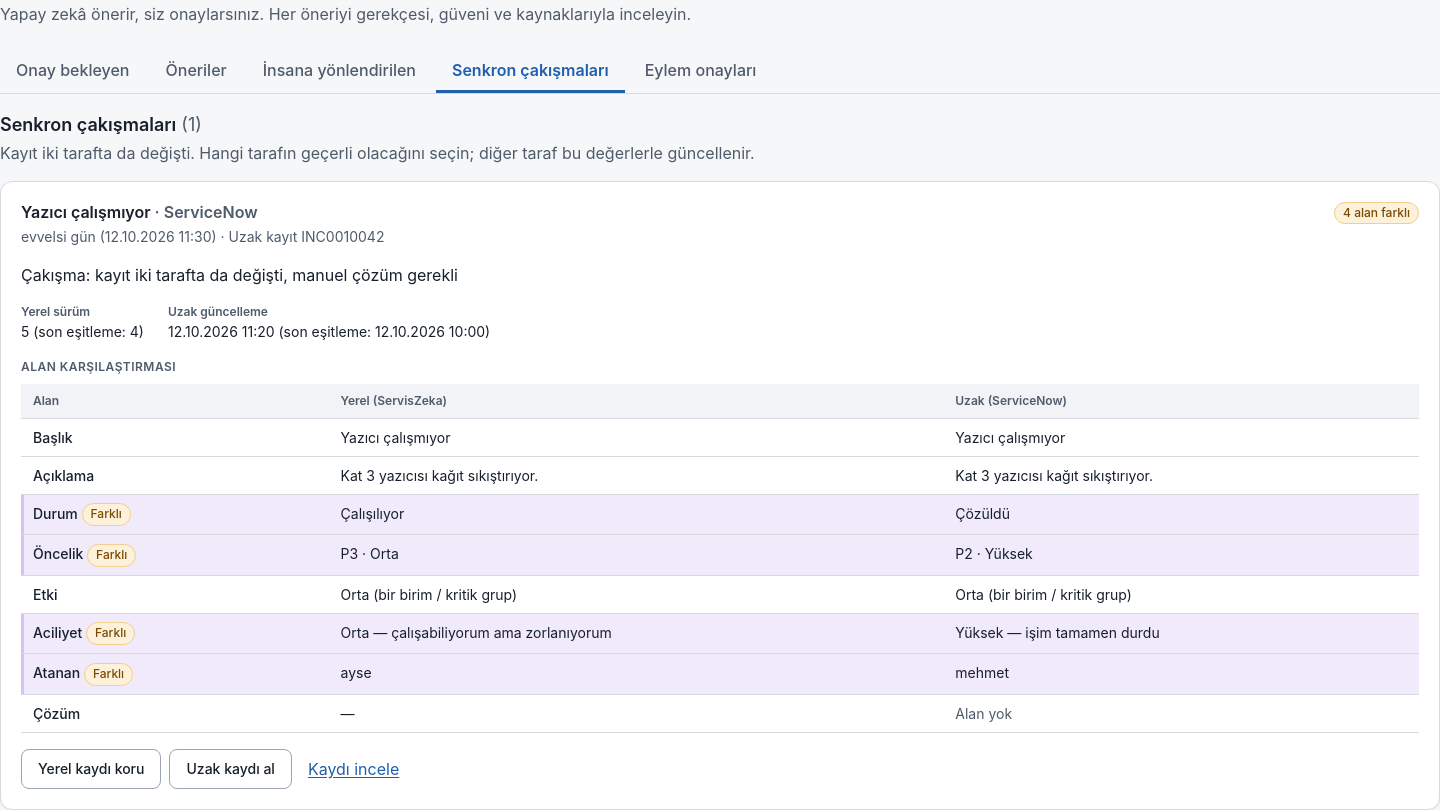
ApprovalsPage — senkron çakışmaları › 404: çakışma zaten çözülmüşse bildirir ve listeyi yeniler
The width and height of the screenshot is (1440, 810).
(page scrolled)
Click the button "Yerel kaydı koru": (91, 769) [21,749,162,789]
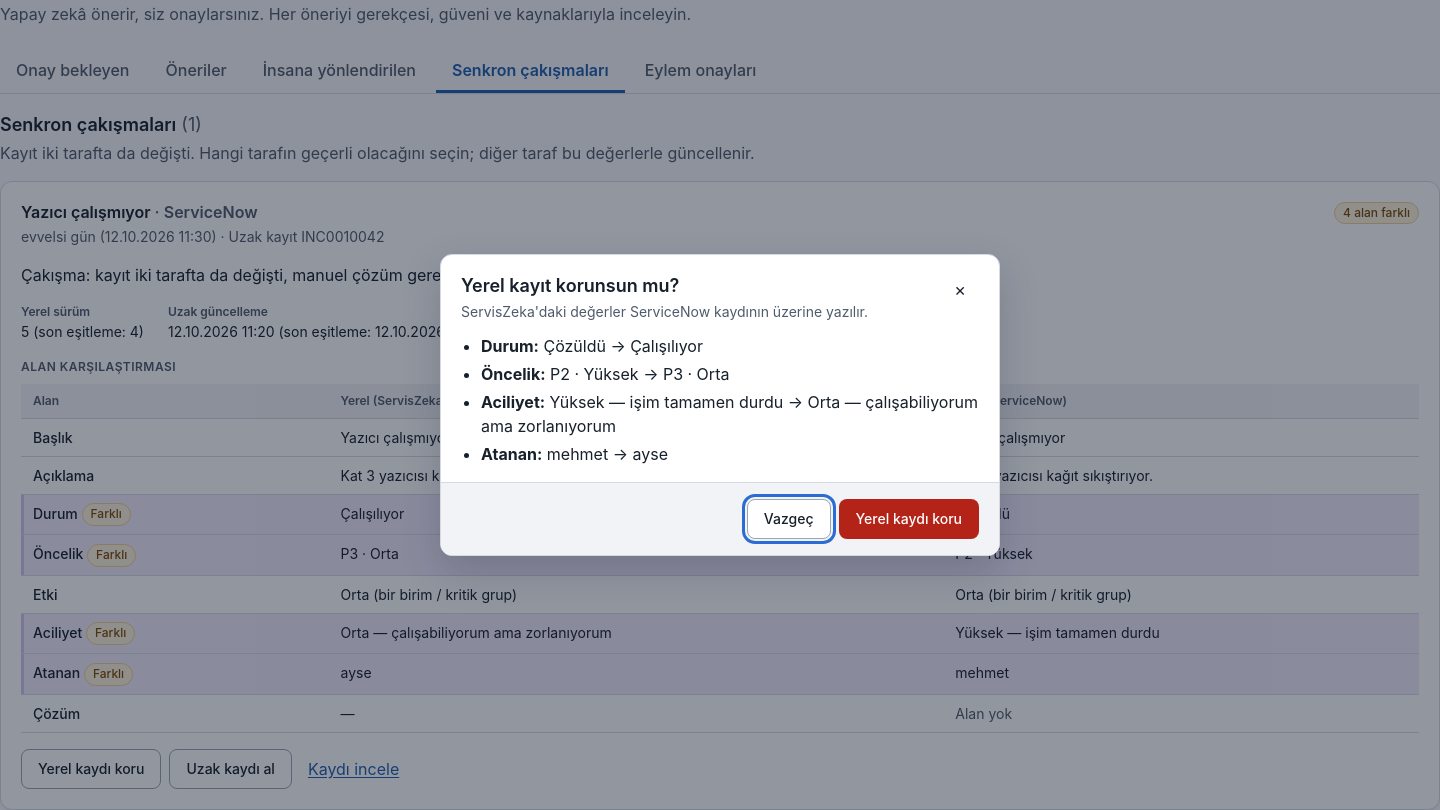
Click the button "Yerel kaydı koru": (909, 519) [838,499,979,539]
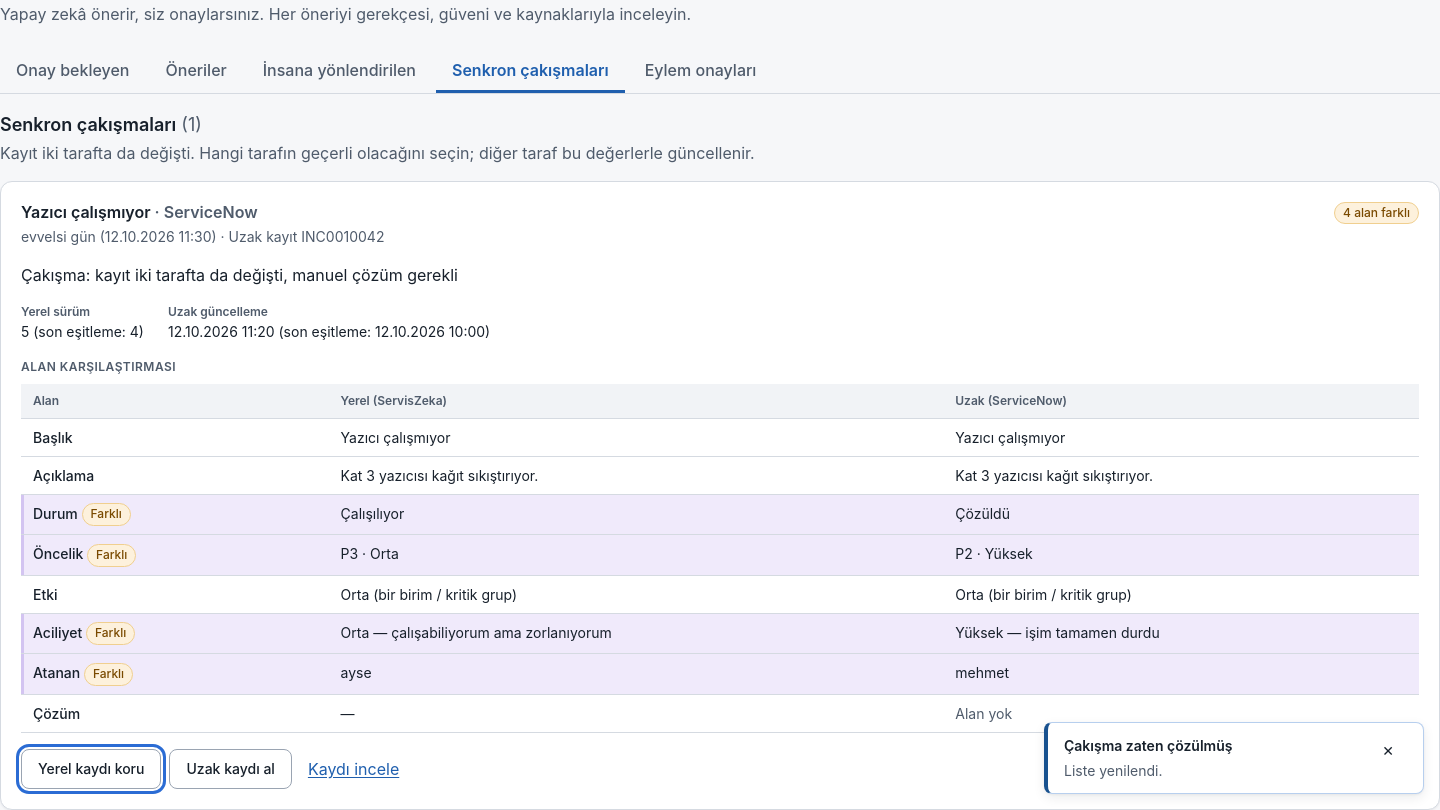
Expected: the text "Çakışma zaten çözülmüş" is shown, [1064,737,1232,754]
